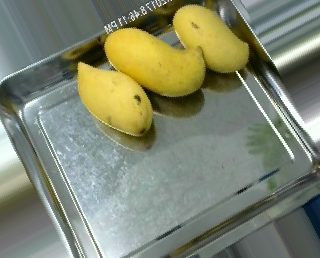Mango: (100, 28, 204, 96), (72, 60, 155, 138), (173, 4, 249, 71)
